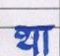aa_matra: (45, 32, 48, 53)
